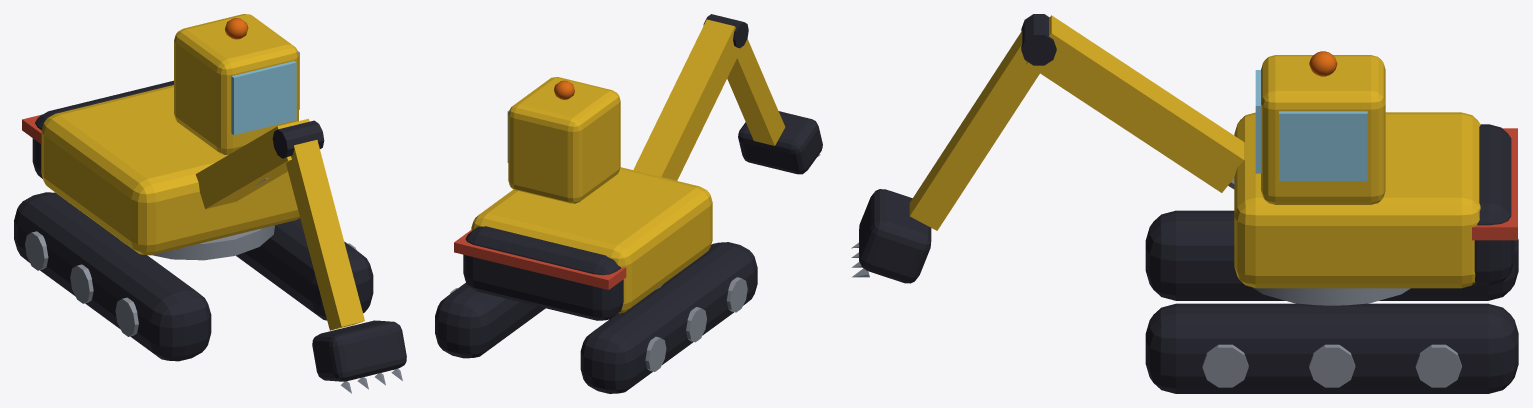
Rendered from machine-excavator.760eed29.glb.
3 renders of one model, left to right at view 1: azimuth 30°, elevation 25°; view 2: azimuth 150°, elevation 25°; view 3: azimuth 270°, elevation 25°, orthographic. The views are drawn at different scales.
Parts seen in each view (by area): view 1: Body__T_vcol, Arm__T_vcol, Bucket__T_vcol, Boom__T_vcol; view 2: Body__T_vcol, Boom__T_vcol, Arm__T_vcol, Bucket__T_vcol; view 3: Body__T_vcol, Boom__T_vcol, Arm__T_vcol, Bucket__T_vcol.
Part boxes in pixels (box(x1,y1,x2,y2)): Body__T_vcol: box(14, 14, 373, 361); Arm__T_vcol: box(272, 120, 364, 330); Bucket__T_vcol: box(312, 320, 406, 393); Boom__T_vcol: box(195, 118, 309, 209); Body__T_vcol: box(435, 77, 757, 393); Boom__T_vcol: box(633, 19, 742, 180); Arm__T_vcol: box(703, 14, 785, 145); Bucket__T_vcol: box(738, 111, 822, 174); Body__T_vcol: box(1145, 51, 1518, 393); Boom__T_vcol: box(1026, 15, 1244, 192); Arm__T_vcol: box(909, 14, 1056, 230); Bucket__T_vcol: box(851, 189, 931, 283).
Size of the model in its own units: 1.74 by 1.93 by 3.76.
